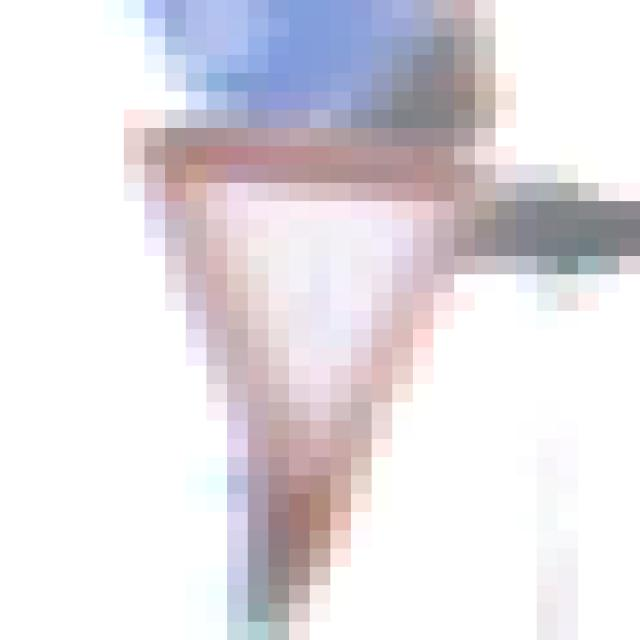Give Way: (125, 93, 517, 550)
